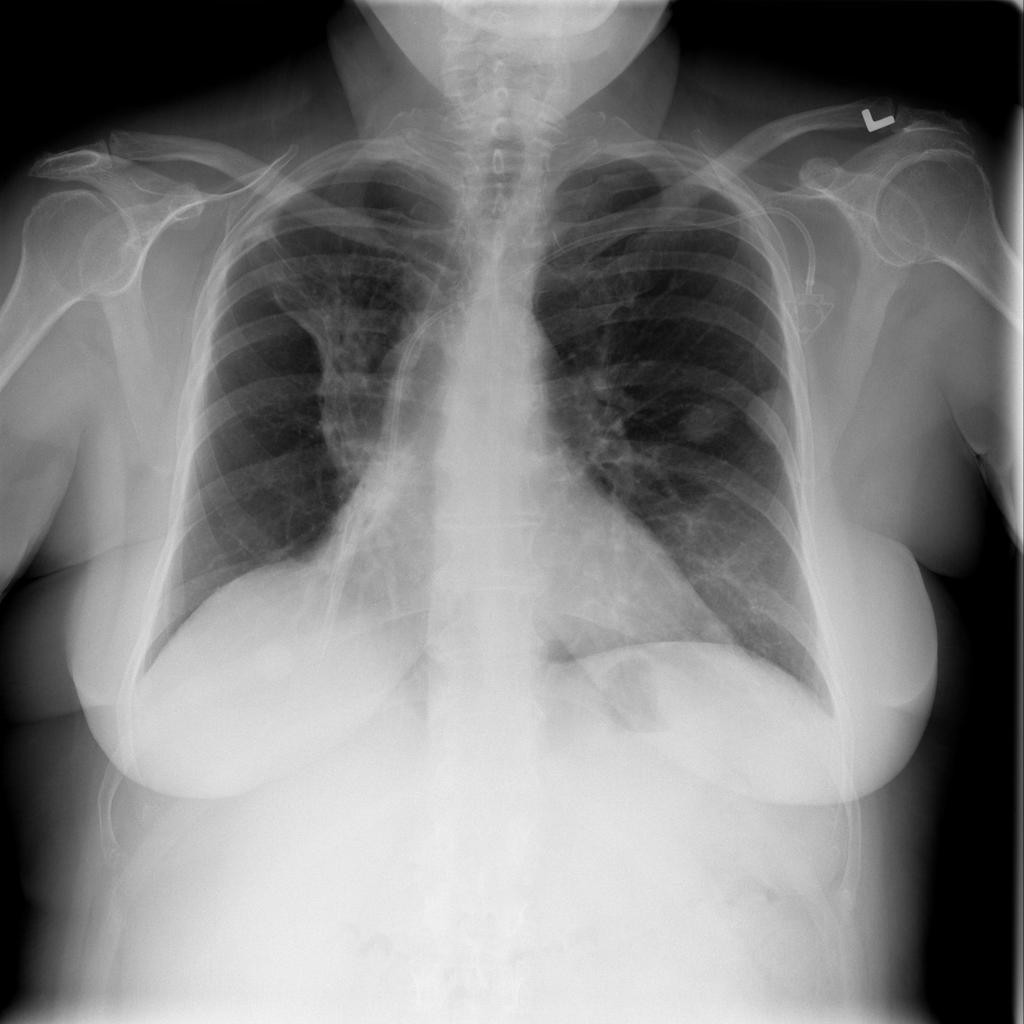nodule: (235, 629, 314, 695), (680, 601, 758, 666), (741, 375, 803, 456)
